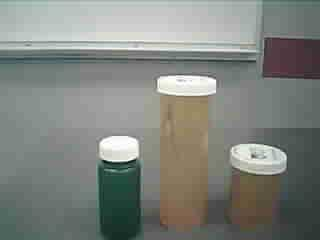Bottle A: (154, 70, 216, 232)
Bottle B: (227, 142, 291, 234)
Bottle C: (93, 130, 147, 239)
